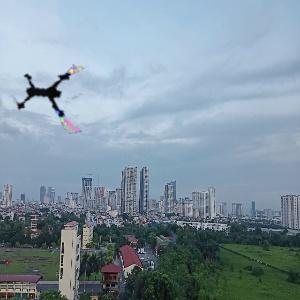drone: (15, 55, 94, 134)
